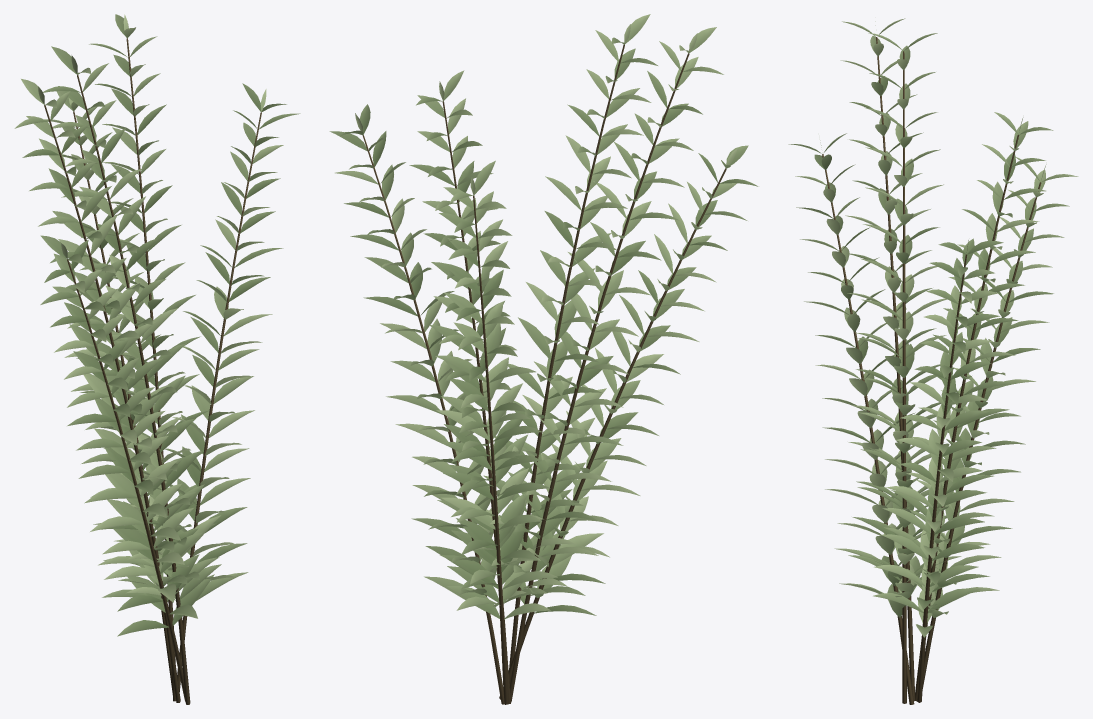
The model's file is olive.glb.
3 views of the same model, side by side, from view 1: azimuth 30°, elevation 25°; view 2: azimuth 150°, elevation 25°; view 3: azimuth 270°, elevation 25° (orthographic). The views are drawn at different scales.
Bounding box in the file's own units: 0.4178 × 0.806 × 0.3407.
1 material, 1 textured.
